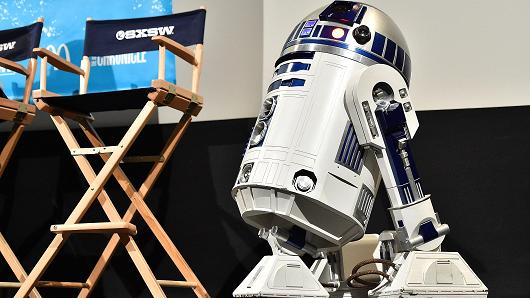r2d2: (230, 1, 493, 294)
